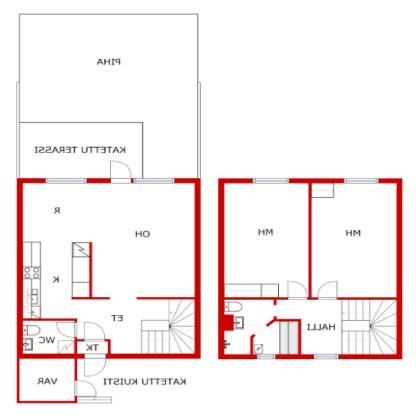door: (23, 182, 195, 354), (22, 124, 144, 178), (18, 358, 75, 402), (24, 322, 74, 353), (83, 318, 108, 343), (316, 279, 341, 302), (108, 162, 133, 184), (86, 354, 106, 376), (288, 280, 310, 300), (53, 321, 77, 339), (72, 380, 98, 395)
window: (132, 176, 175, 184), (251, 176, 289, 184), (45, 178, 89, 184), (344, 178, 379, 184), (312, 353, 339, 360), (256, 355, 276, 358)
zone: (22, 14, 195, 176), (224, 182, 310, 299), (312, 180, 395, 297), (225, 299, 395, 354)
